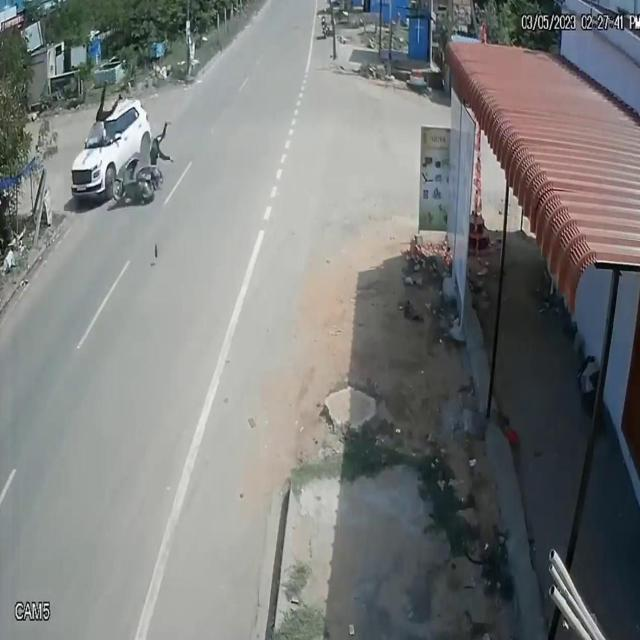accident: (65, 81, 173, 215)
